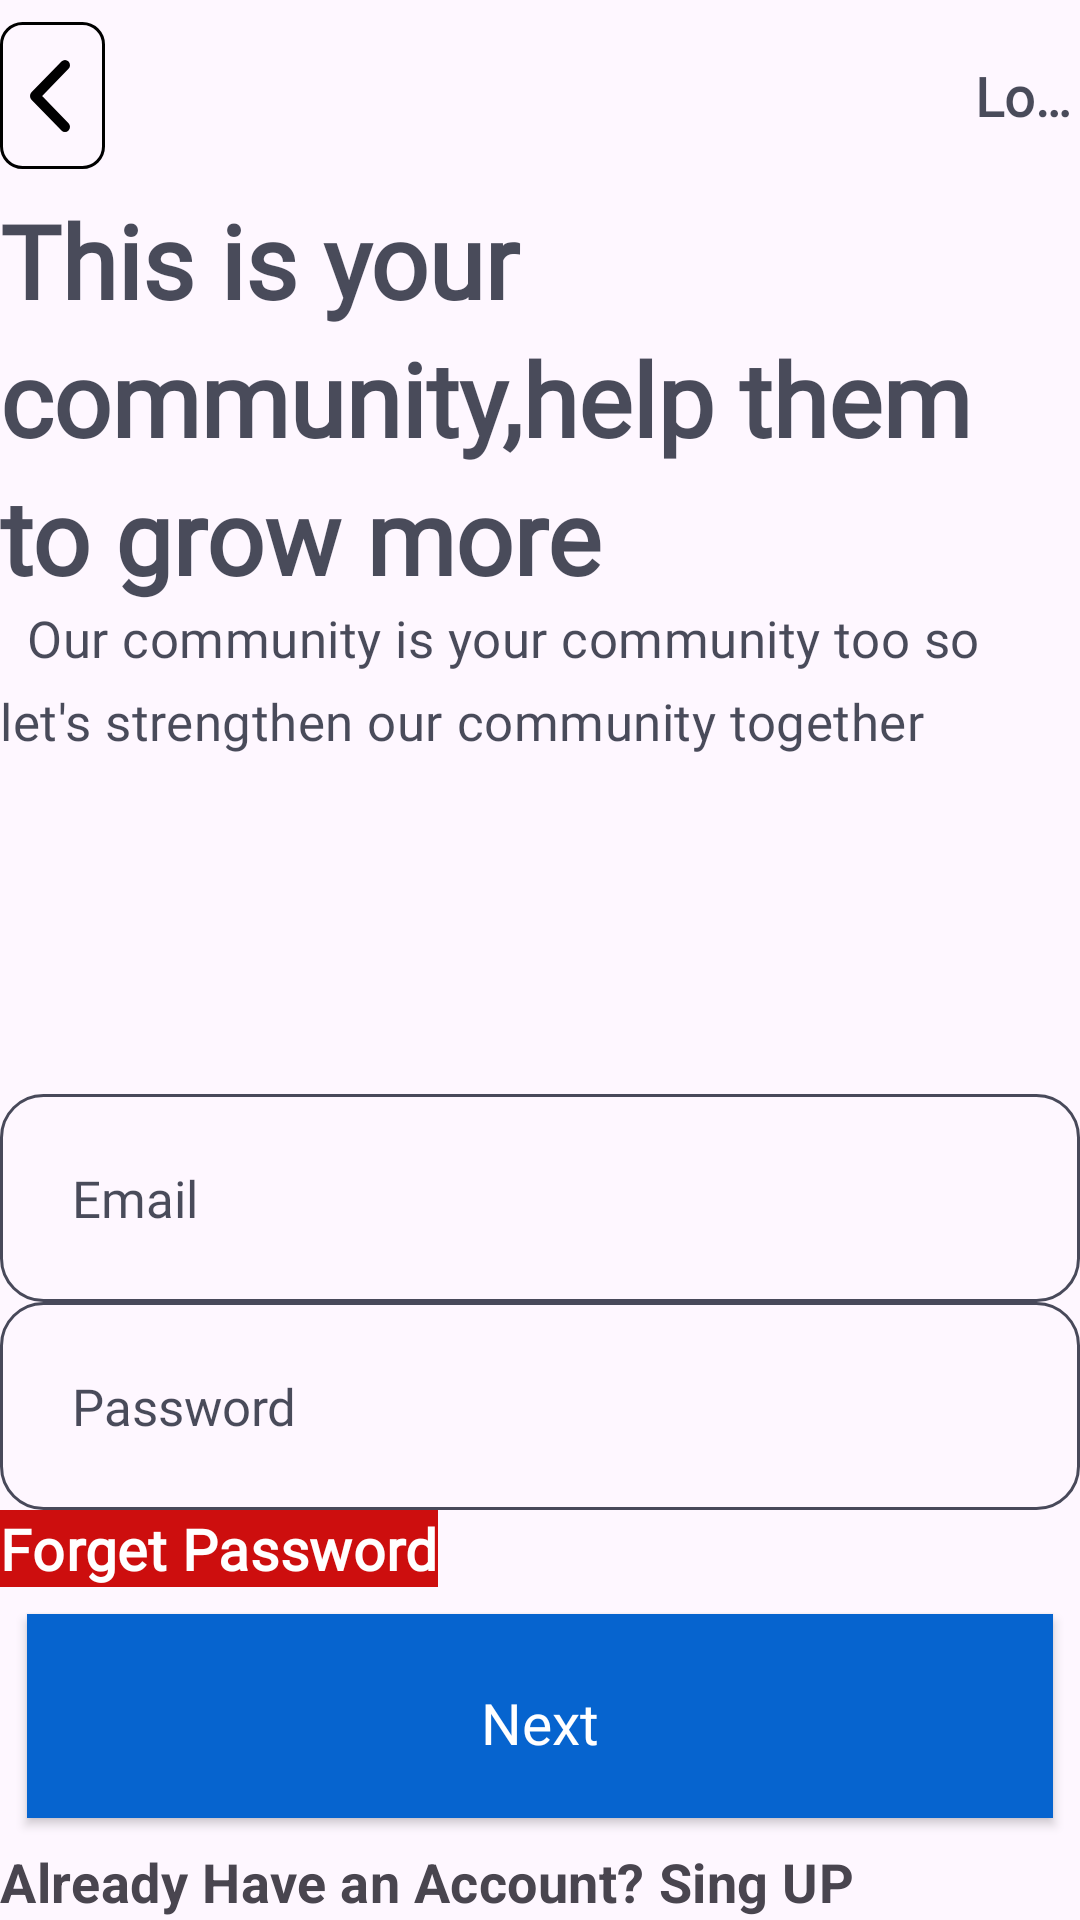

Screen size 1080*1920. Icon name, then its center in pixels as (x,y):
arrow left: (52,95)
